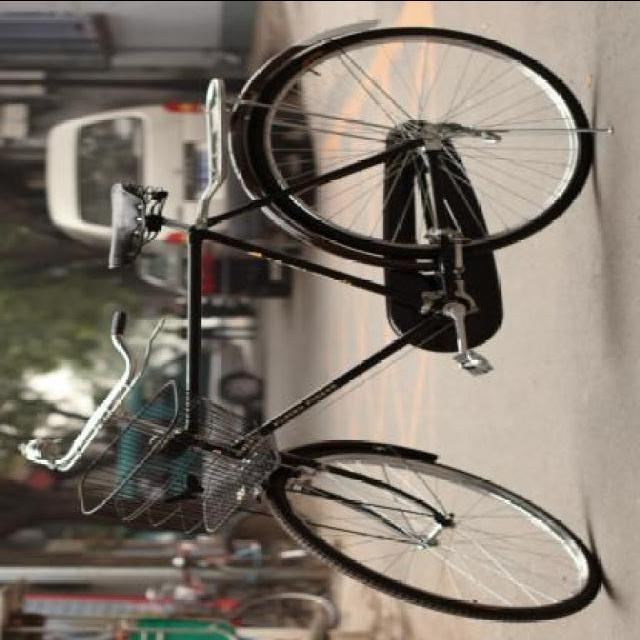bicycle: (22, 21, 600, 625)
